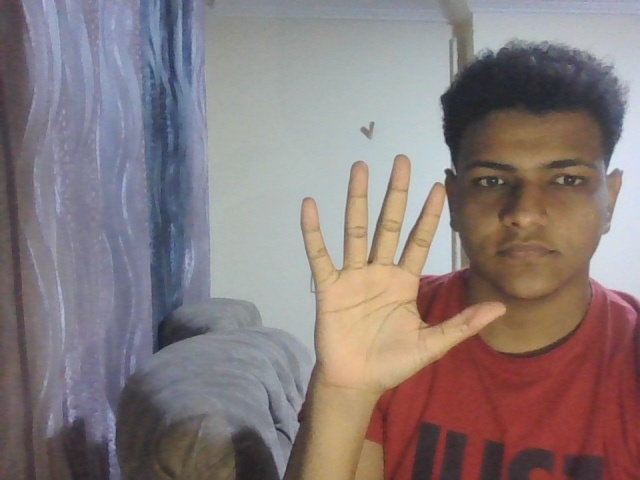Hello: (295, 147, 509, 397)
